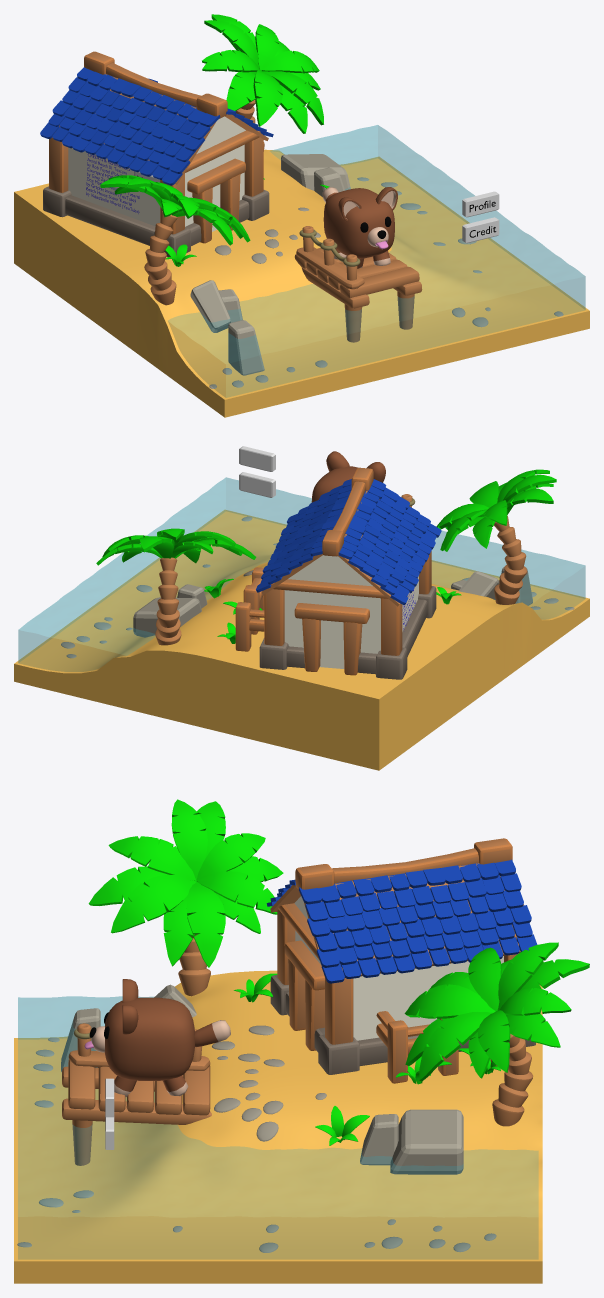
File: sae.glb
3 views of the same model, one above another, from view 1: azimuth 30°, elevation 25°; view 2: azimuth 150°, elevation 25°; view 3: azimuth 270°, elevation 25° (orthographic). The views are drawn at different scales.
Parts seen in each view (by area): view 1: sand, Water, Plane.007, Cube.002, Cube, Cube.025, Cube.003, Plane.006, Plane.001, Cube.007, Plane, Plane.003 (+17 smaller); view 2: sand, Water, Cube.002, Cube, Cube.003, Plane.009, Plane, Plane.001, Plane.006, Plane.002, Plane.003, Plane.005 (+14 smaller); view 3: sand, Water, Plane.009, Plane.007, Cube.025, Cube.002, Plane.008, Cube.007, Cube, Cube.011, Plane.006, Plane.001 (+19 smaller).
Boxes of the visible parts, x1,y1,x2,y2 form: sand: [14, 149, 589, 417]; Water: [168, 125, 585, 397]; Plane.007: [202, 20, 323, 126]; Cube.002: [49, 125, 263, 243]; Cube: [68, 116, 245, 231]; Cube.025: [323, 187, 397, 258]; Cube.003: [43, 186, 269, 256]; Plane.006: [202, 14, 320, 133]; Plane.001: [68, 77, 244, 139]; Cube.007: [294, 248, 419, 298]; Plane: [77, 67, 236, 126]; Plane.003: [52, 100, 258, 161]; sand: [14, 509, 589, 770]; Water: [18, 477, 585, 671]; Cube.002: [264, 551, 431, 675]; Cube: [284, 555, 418, 668]; Cube.003: [259, 586, 436, 679]; Plane.009: [436, 469, 556, 551]; Plane: [310, 479, 386, 559]; Plane.001: [298, 485, 398, 569]; Plane.006: [96, 536, 256, 565]; Plane.002: [287, 491, 409, 577]; Plane.003: [275, 500, 419, 587]; Plane.005: [256, 514, 441, 604]; sand: [14, 970, 542, 1283]; Water: [18, 996, 538, 1259]; Plane.009: [108, 799, 277, 967]; Plane.007: [404, 942, 571, 1080]; Cube.025: [89, 979, 194, 1080]; Cube.002: [277, 903, 518, 1050]; Plane.008: [88, 801, 283, 966]; Cube.007: [68, 1059, 210, 1115]; Cube: [294, 896, 503, 1040]; Cube.011: [390, 1109, 463, 1174]; Plane.006: [405, 959, 589, 1078]; Plane.001: [285, 873, 521, 921].
Size of the model in its own units: 14.23 by 8.88 by 13.83.
